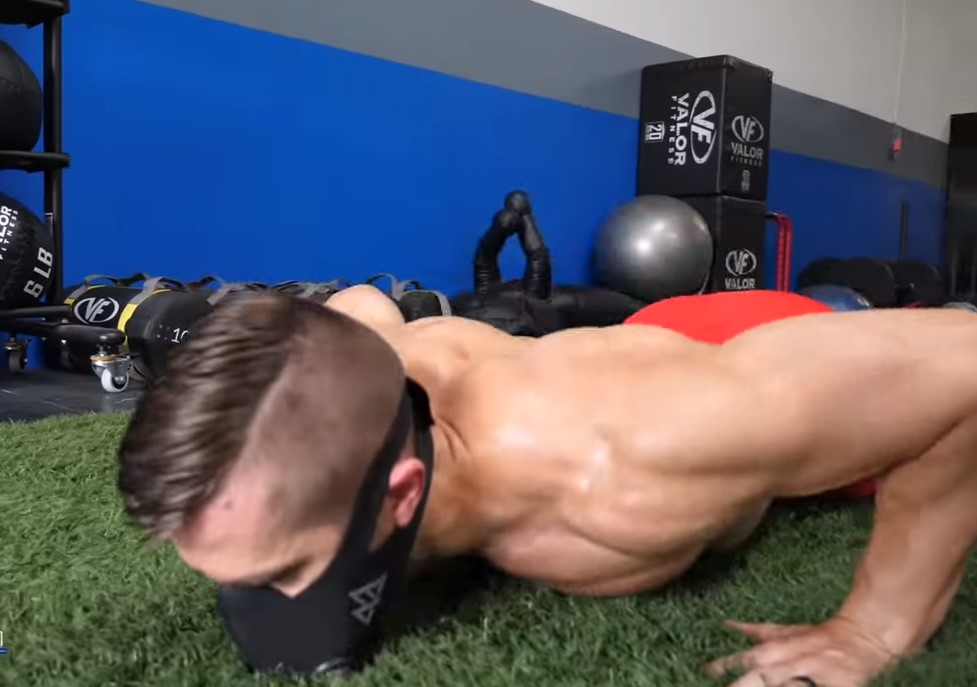face_with_mask: (116, 286, 429, 677)
